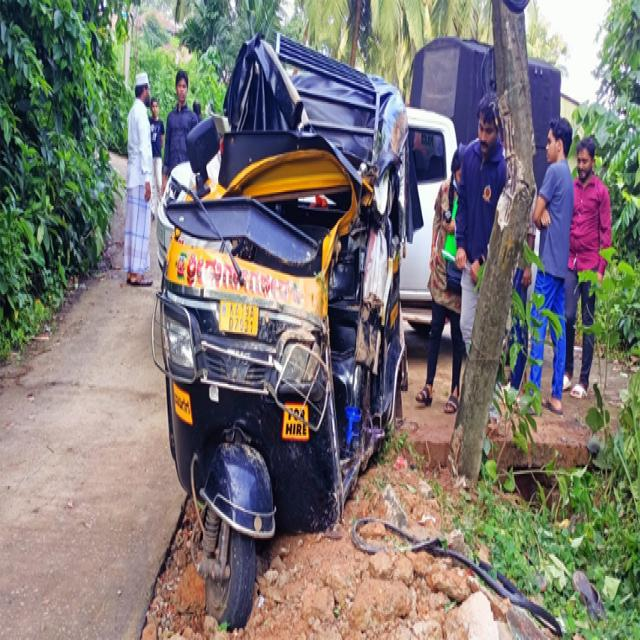accident: (152, 35, 410, 628)
truck: (400, 37, 495, 332), (529, 58, 574, 185)
